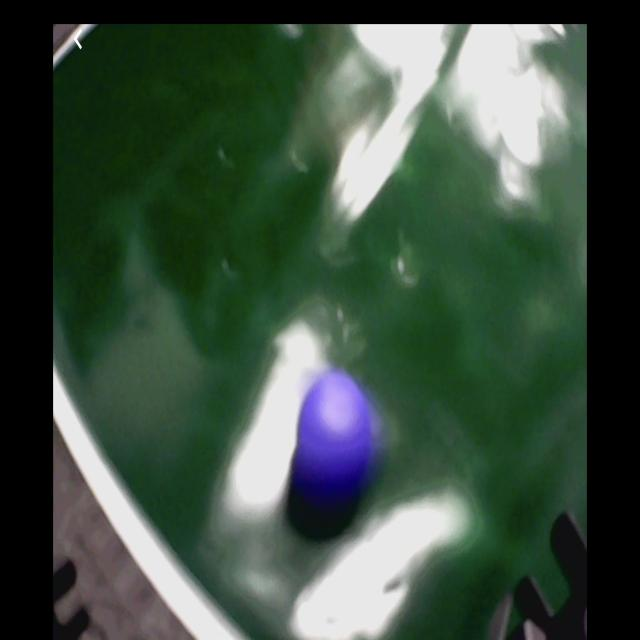ball: (297, 371, 375, 498)
